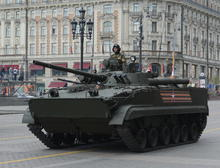bmp: (26, 57, 208, 149)
